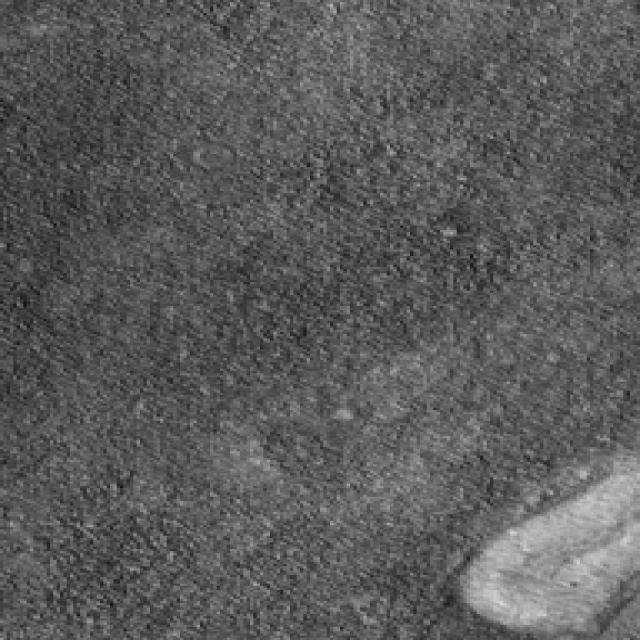Crater: (453, 386, 640, 640)
